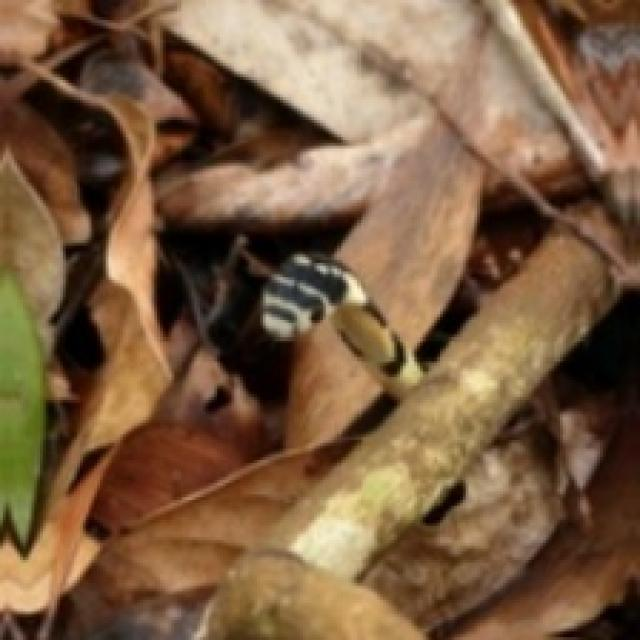king cobra: (260, 251, 420, 394)
